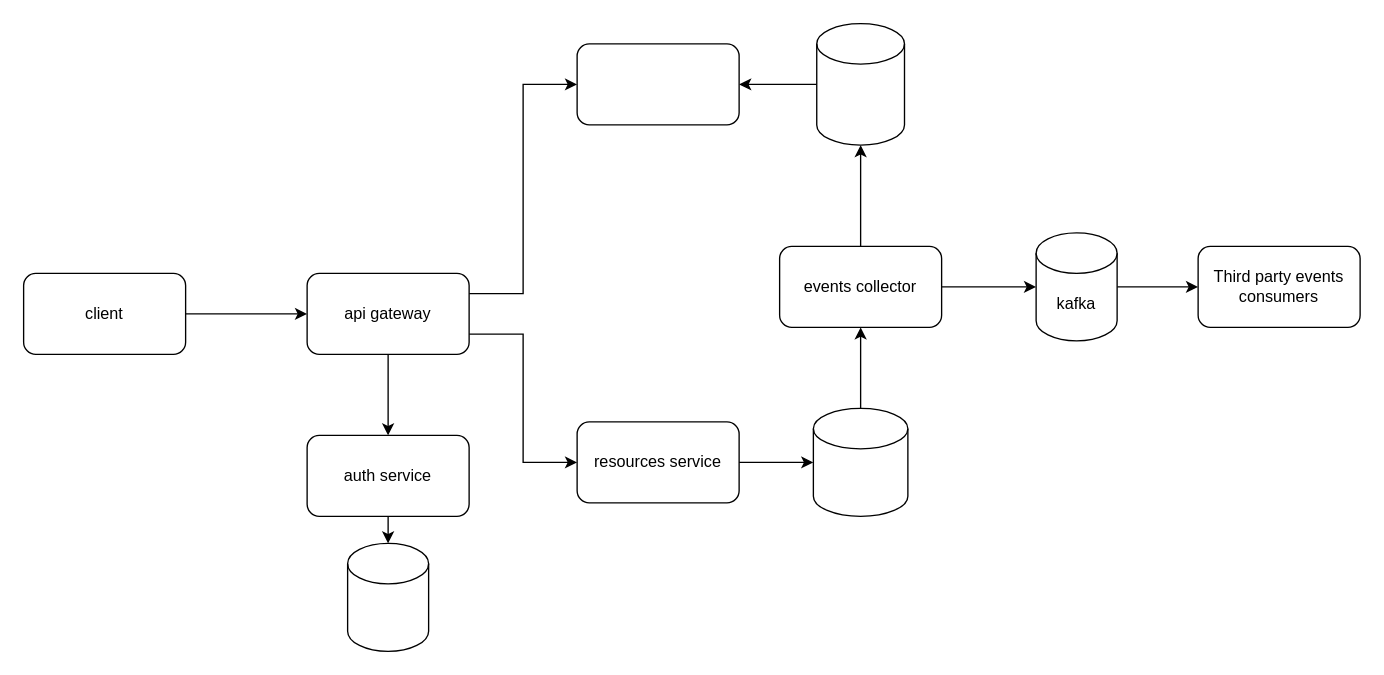
Image size: 1384x675. Some labels were removed from this diagram. The shapes that lost their labels are listed below. From the top down, each one's centre as x and y in pixels, then its label:
At (657,84): "analytics service".
At (860,83): "ClickHouse".
At (860,461): "PostgreSQL".
At (387,596): "redis".
